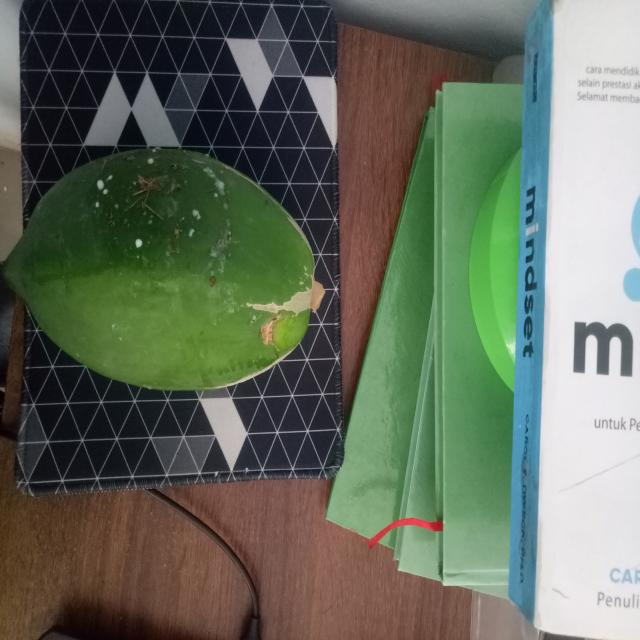Pepaya unrippen: (13, 151, 315, 429)
